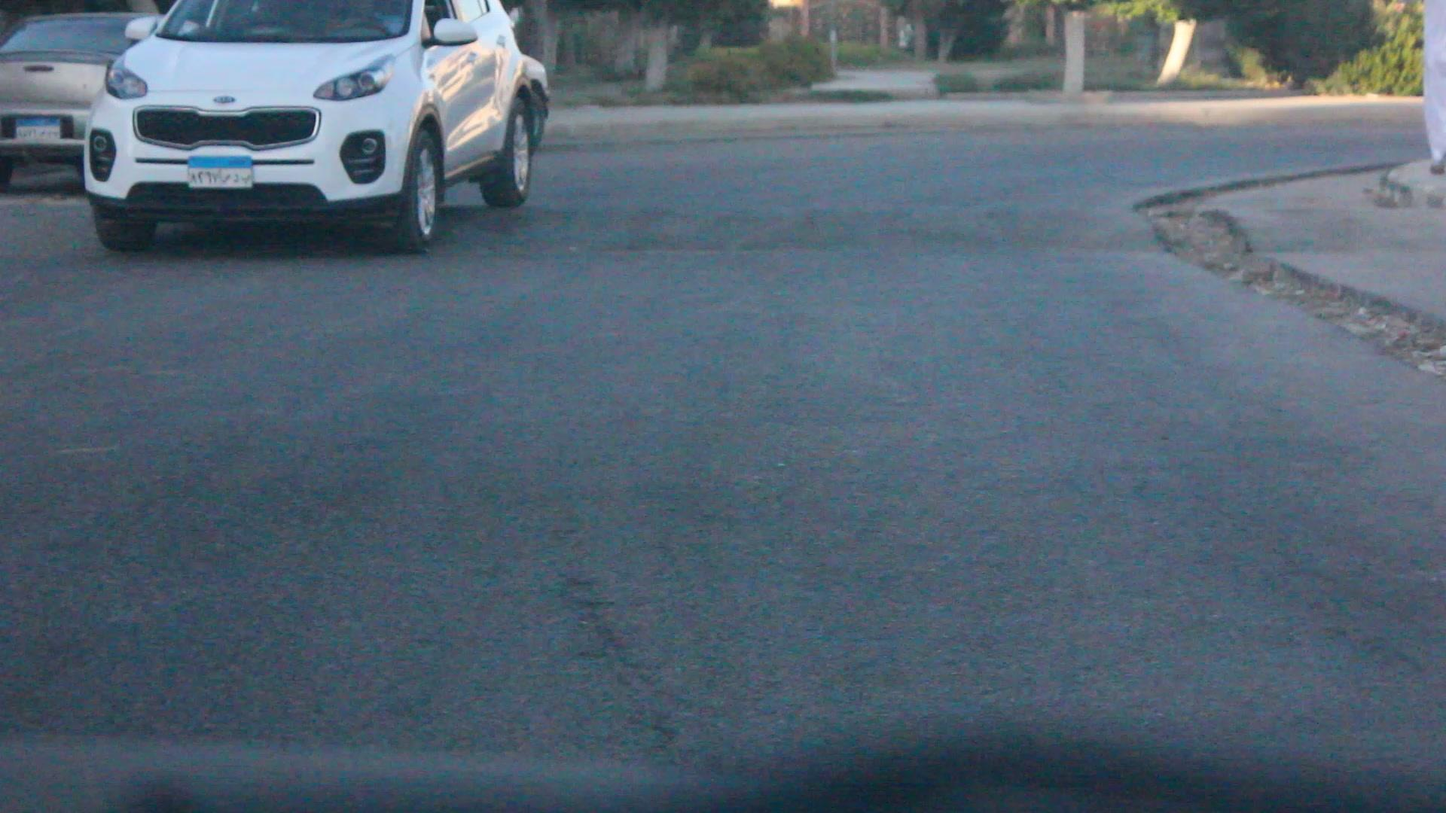Bump: (8, 211, 1196, 258)
